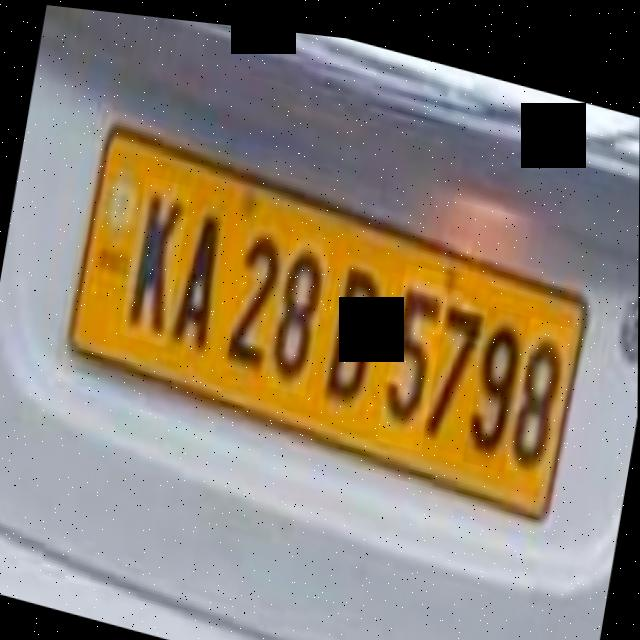5: (377, 252, 451, 445)
7: (423, 271, 492, 448)
8: (266, 219, 332, 392), (507, 303, 574, 470)
9: (463, 293, 530, 463)
A: (166, 177, 239, 362)
D: (320, 232, 391, 413)
K: (120, 170, 192, 345)
